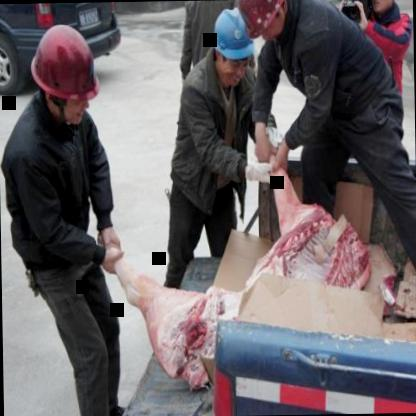helmet: (25, 25, 102, 125), (204, 10, 261, 96), (237, 0, 293, 39)
